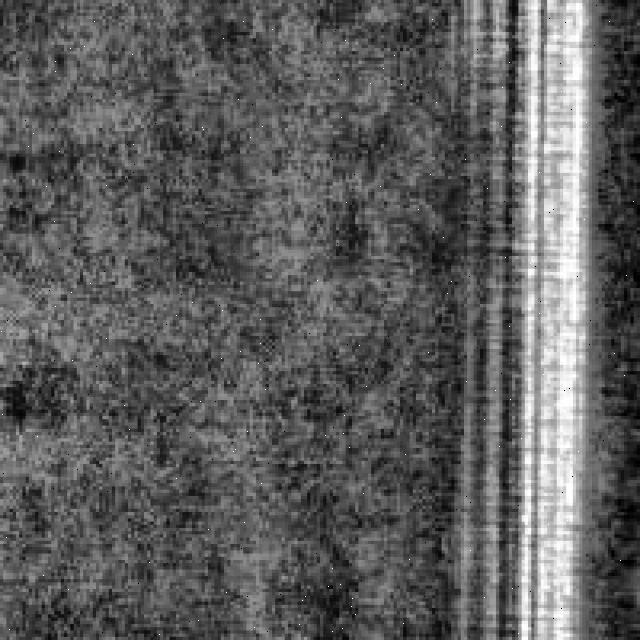Inclusion: (457, 0, 585, 630)
